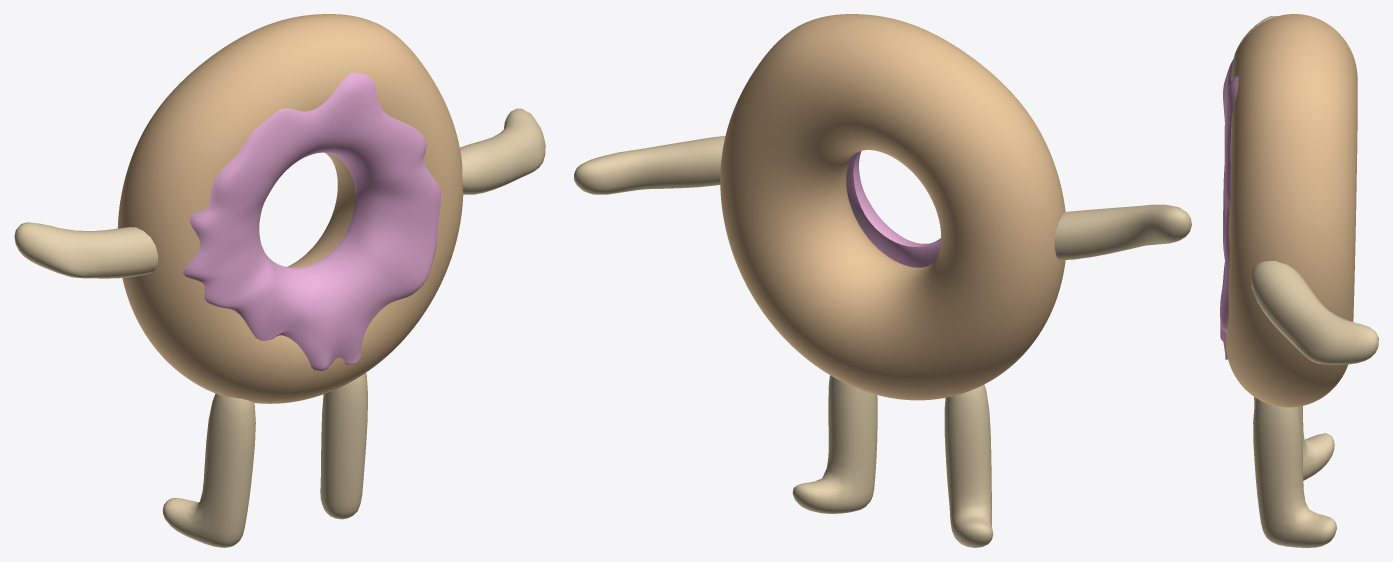
The model's file is donut.fbx.
The picture shows the model from 3 angles, left to right: view 1: azimuth 30°, elevation 25°; view 2: azimuth 150°, elevation 25°; view 3: azimuth 270°, elevation 25°; orthographic projection.
Visible parts, largest first — view 1: donut; view 2: donut; view 3: donut.
Boxes of the visible parts, box(x1,y1,x2,y2) form: donut: box(14, 14, 545, 547); donut: box(574, 14, 1191, 547); donut: box(1220, 14, 1378, 547).
Bounding box in the file's own units: 6.94 × 5.84 × 1.7.
